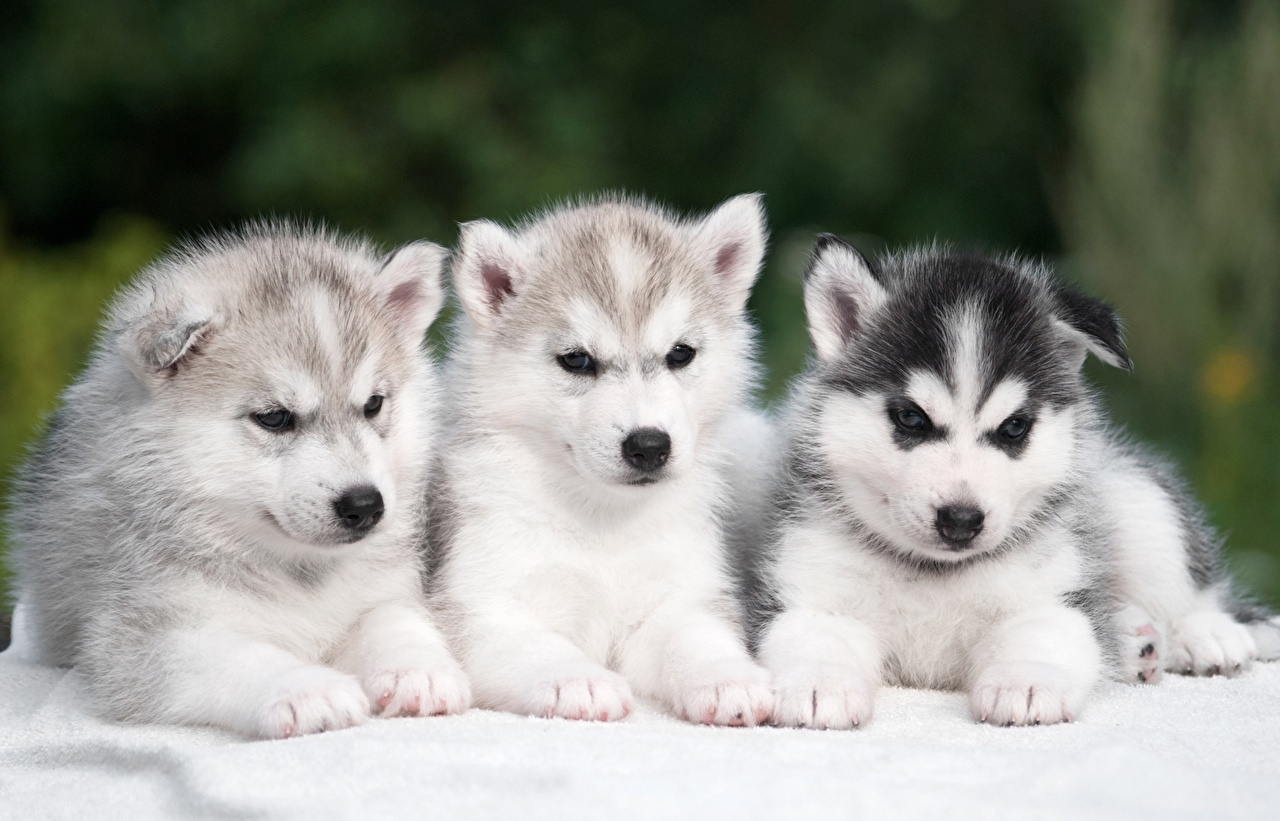husky: (70, 194, 441, 604), (803, 214, 1134, 582), (449, 172, 785, 528)
